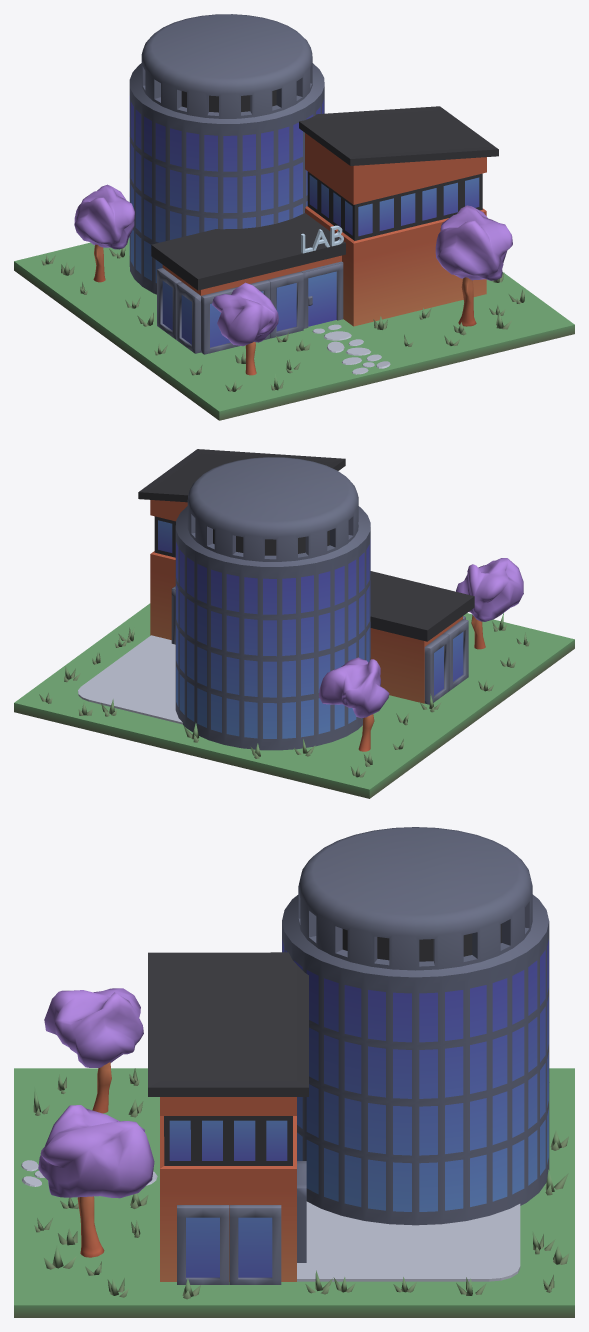
The model's file is robotics_lab.glb.
3 renders of one model, top to bottom at view 1: azimuth 30°, elevation 25°; view 2: azimuth 150°, elevation 25°; view 3: azimuth 270°, elevation 25°, orthographic. The views are drawn at different scales.
Parts seen in each view (by area): view 1: robotics_lab; view 2: robotics_lab; view 3: robotics_lab.
Part boxes in pixels (bbox=[...]): robotics_lab: bbox=[14, 14, 574, 420]; robotics_lab: bbox=[14, 449, 574, 798]; robotics_lab: bbox=[14, 827, 574, 1317].
Size of the model in its own units: 2 by 1.23 by 2.
1 material, 1 textured.
